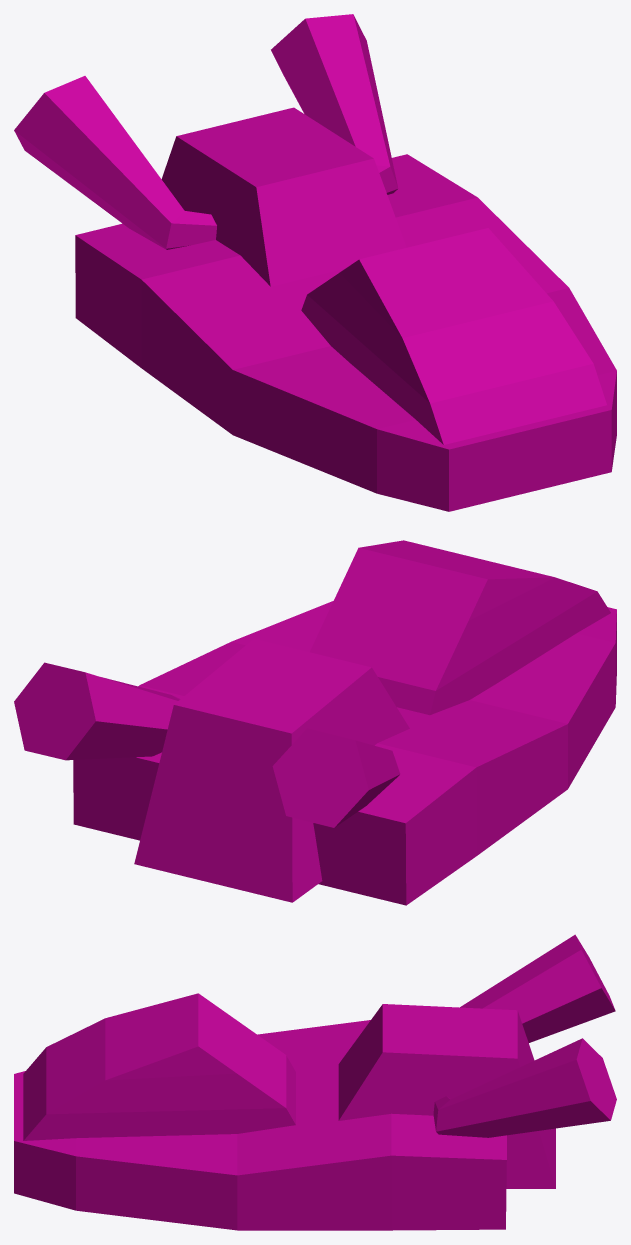
The model's file is SM_Veh_Kart_01_Preset_06_Collision.fbx.
3 renders of one model, top to bottom at view 1: azimuth 30°, elevation 25°; view 2: azimuth 150°, elevation 25°; view 3: azimuth 270°, elevation 25°, orthographic. The views are drawn at different scales.
Parts seen in each view (by area): view 1: SM_Veh_Kart_01_Preset_06_Collision; view 2: SM_Veh_Kart_01_Preset_06_Collision; view 3: SM_Veh_Kart_01_Preset_06_Collision.
Boxes of the visible parts, x1=… form: SM_Veh_Kart_01_Preset_06_Collision: x1=14, y1=14, x2=616, y2=511; SM_Veh_Kart_01_Preset_06_Collision: x1=14, y1=540, x2=616, y2=905; SM_Veh_Kart_01_Preset_06_Collision: x1=14, y1=934, x2=616, y2=1230.
Size of the model in its own units: 149 by 80 by 260.
